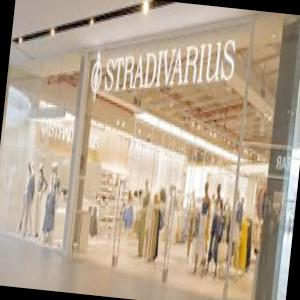stradivarius: (76, 17, 252, 109)
